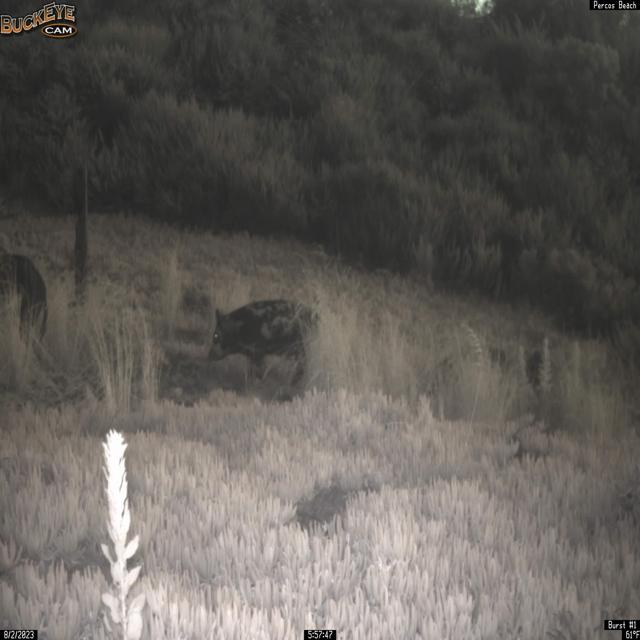pig: (206, 297, 321, 391)
